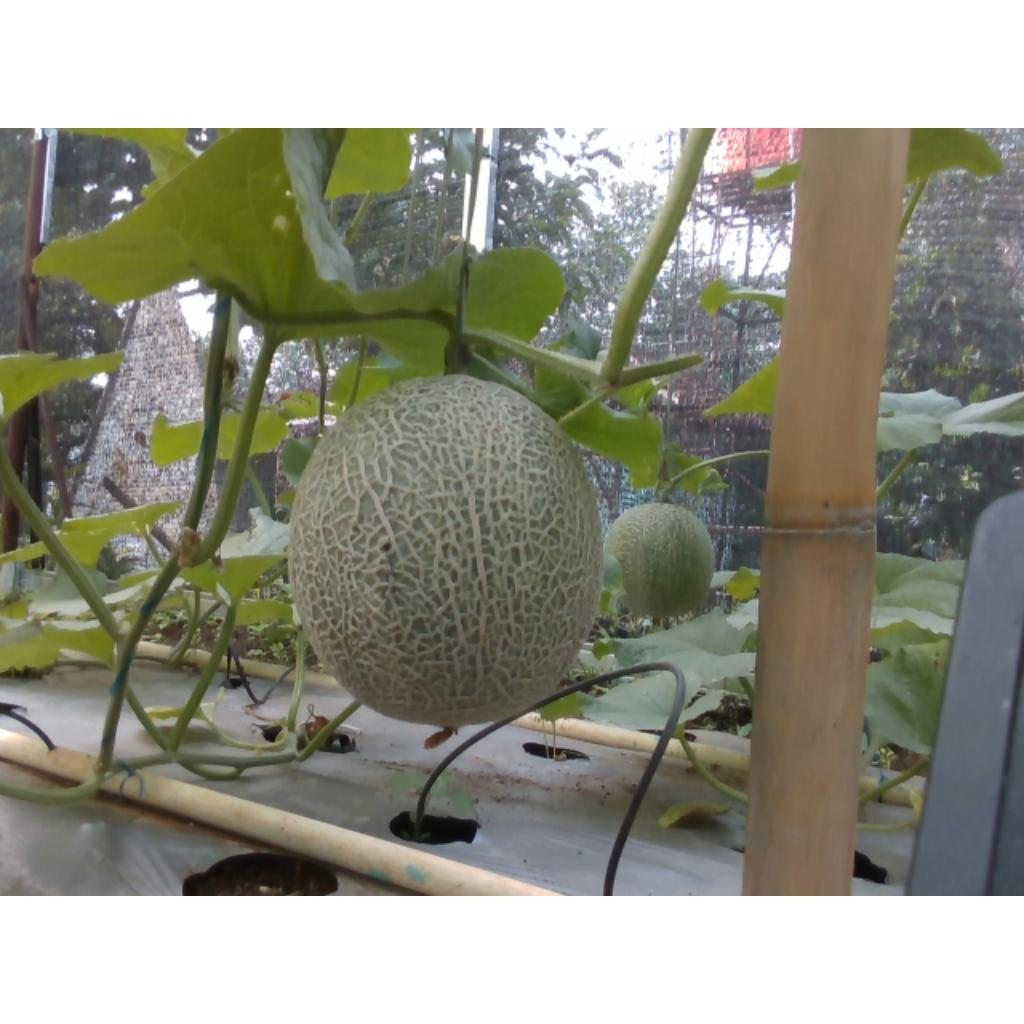melon: (291, 374, 603, 729)
